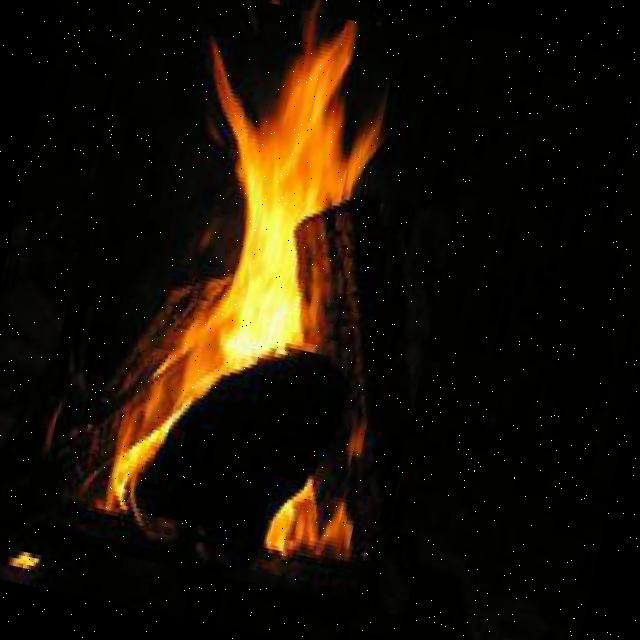fire: (18, 0, 489, 607)
